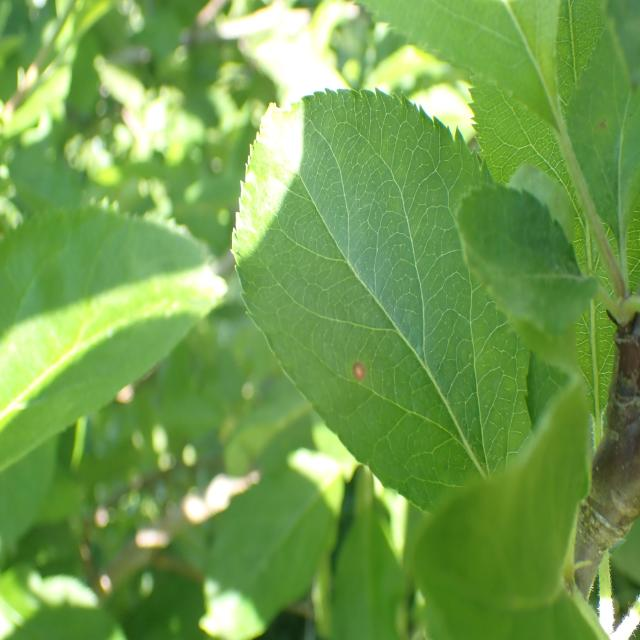frog-eye-leaf-spot: (230, 88, 532, 512)
